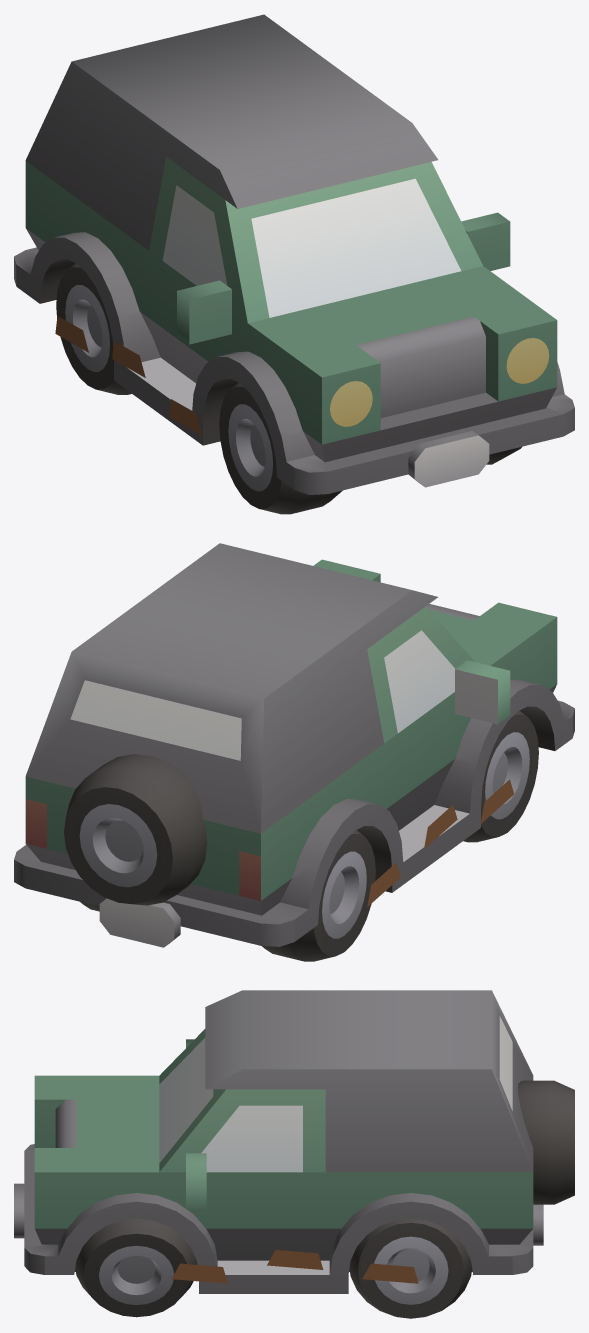
File: ap_coche_3.glb
3 views of the same model, one above another, from view 1: azimuth 30°, elevation 25°; view 2: azimuth 150°, elevation 25°; view 3: azimuth 270°, elevation 25° (orthographic). The views are drawn at different scales.
Visible parts, largest first — view 1: body, wheel-front-right, wheel-back-right; view 2: body, wheel-back, wheel-back-right, wheel-front-right, Chapa_oxidada.001, Chapa_oxidada.002, Chapa_oxidada; view 3: body, wheel-front-left, wheel-back-left, wheel-back, Chapa_oxidada.003, Chapa_oxidada.005, Chapa_oxidada.004.
Part boxes in pixels (left/top/right/bottom): body: left=14, top=14, right=574, bottom=494; wheel-front-right: left=219, top=382, right=342, bottom=514; wheel-back-right: left=56, top=263, right=131, bottom=394; body: left=14, top=543, right=574, bottom=947; wheel-back: left=64, top=754, right=207, bottom=905; wheel-back-right: left=262, top=830, right=375, bottom=961; wheel-front-right: left=463, top=710, right=538, bottom=842; Chapa_oxidada.001: left=424, top=805, right=457, bottom=848; Chapa_oxidada.002: left=367, top=862, right=400, bottom=906; Chapa_oxidada: left=480, top=779, right=513, bottom=823; body: left=14, top=990, right=543, bottom=1293; wheel-front-left: left=75, top=1218, right=197, bottom=1317; wheel-back-left: left=349, top=1218, right=472, bottom=1318; wheel-back: left=517, top=1080, right=574, bottom=1204; Chapa_oxidada.003: left=171, top=1263, right=227, bottom=1283; Chapa_oxidada.005: left=362, top=1263, right=418, bottom=1283; Chapa_oxidada.004: left=267, top=1250, right=323, bottom=1269.
Bounding box in the file's own units: 2.47 × 2.15 × 4.45.
7 materials, 6 textured.
